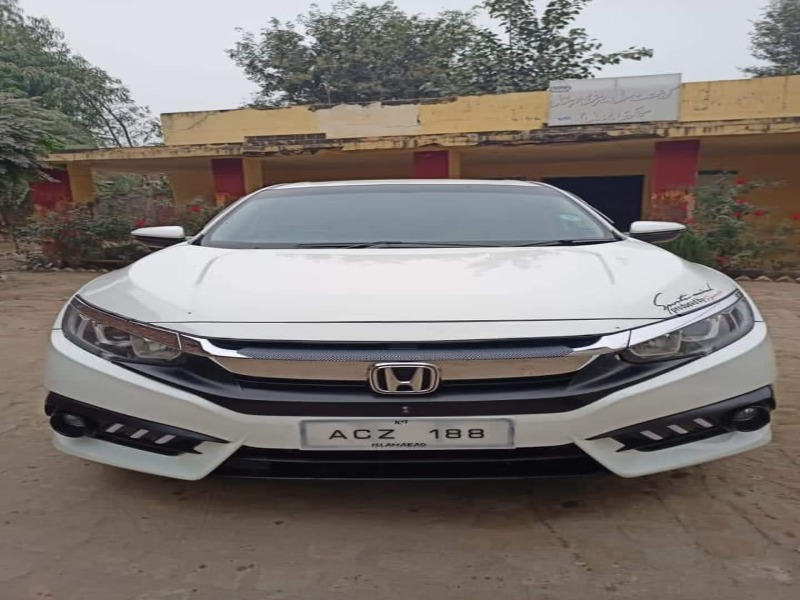License Plate: (296, 415, 520, 458)
